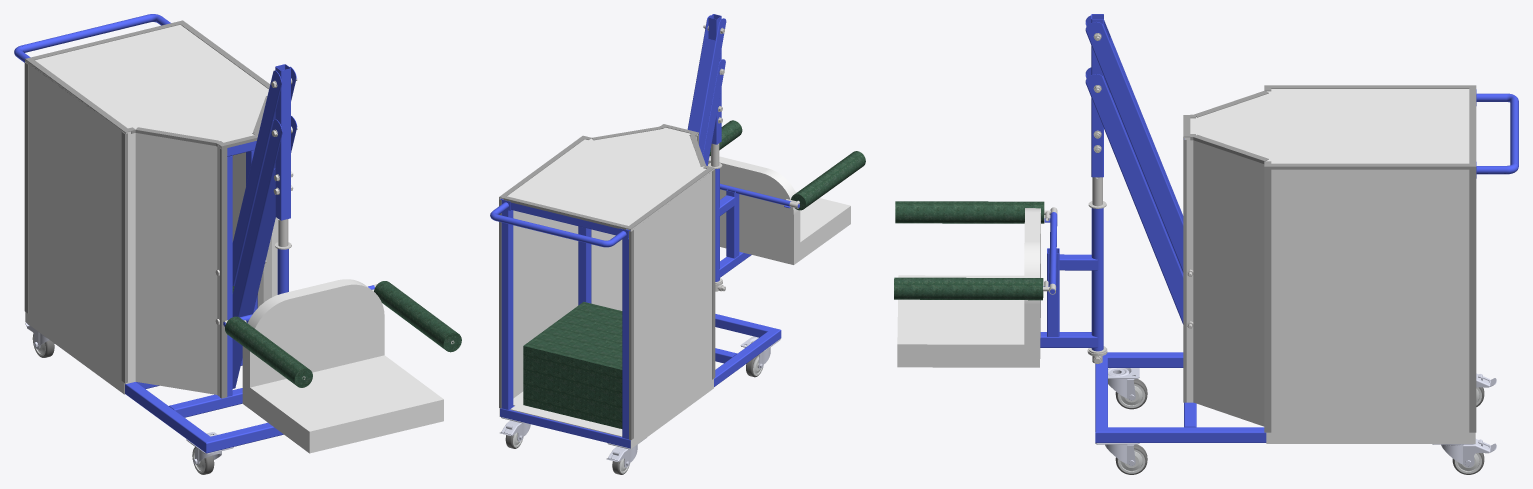
The model's file is GRUA_PARA_PISCINA.glb.
The picture shows the model from 3 angles, left to right: view 1: azimuth 30°, elevation 25°; view 2: azimuth 150°, elevation 25°; view 3: azimuth 270°, elevation 25°; orthographic projection. The views are drawn at different scales.
Visible parts, largest first — view 1: GRUA_PARA_PISCINA; view 2: GRUA_PARA_PISCINA; view 3: GRUA_PARA_PISCINA.
Part boxes in pixels (left/top/right/bottom): GRUA_PARA_PISCINA: left=14, top=14, right=461, bottom=474; GRUA_PARA_PISCINA: left=490, top=14, right=865, bottom=474; GRUA_PARA_PISCINA: left=894, top=14, right=1518, bottom=474.
Size of the model in its own units: 0.6431 by 1.48 by 1.97.
Materials: 16 (1 with a texture image).
